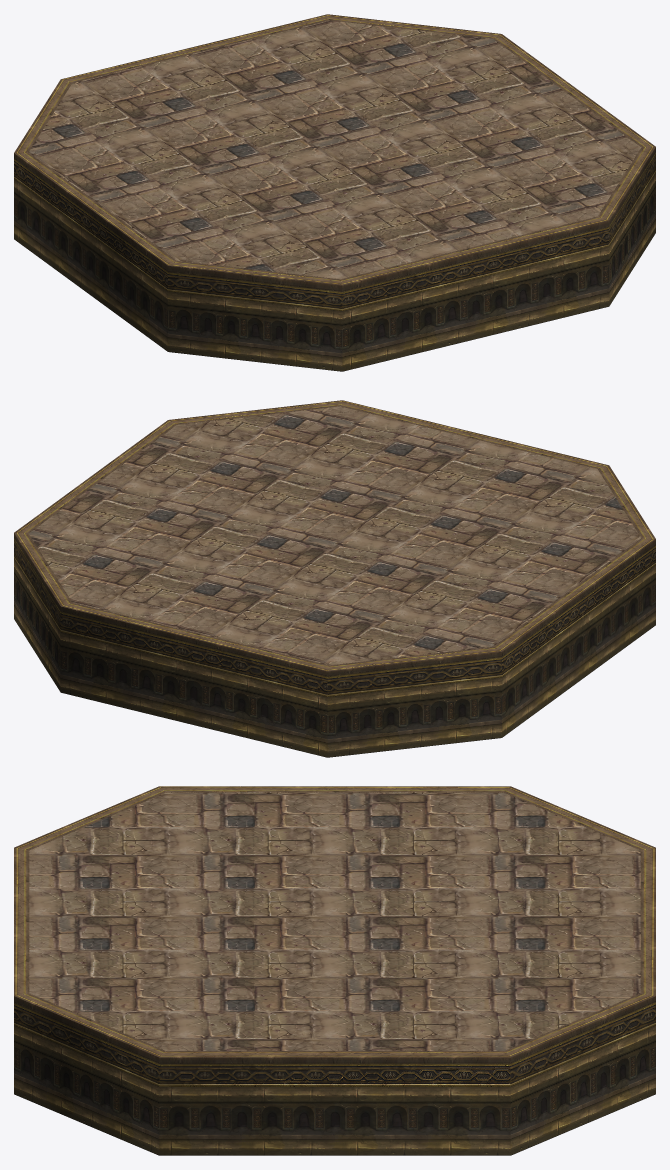
The model's file is A03_battle_floor_a_01.FBX.
3 renders of one model, top to bottom at view 1: azimuth 30°, elevation 25°; view 2: azimuth 150°, elevation 25°; view 3: azimuth 270°, elevation 25°, orthographic. The views are drawn at different scales.
Visible parts, largest first — view 1: A03_battle_floor_a_01; view 2: A03_battle_floor_a_01; view 3: A03_battle_floor_a_01.
Boxes of the visible parts, left/top/right/bottom form: A03_battle_floor_a_01: left=14, top=14, right=655, bottom=371; A03_battle_floor_a_01: left=14, top=400, right=655, bottom=757; A03_battle_floor_a_01: left=14, top=786, right=655, bottom=1155.
Size of the model in its own units: 18.65 by 3.15 by 18.65.
